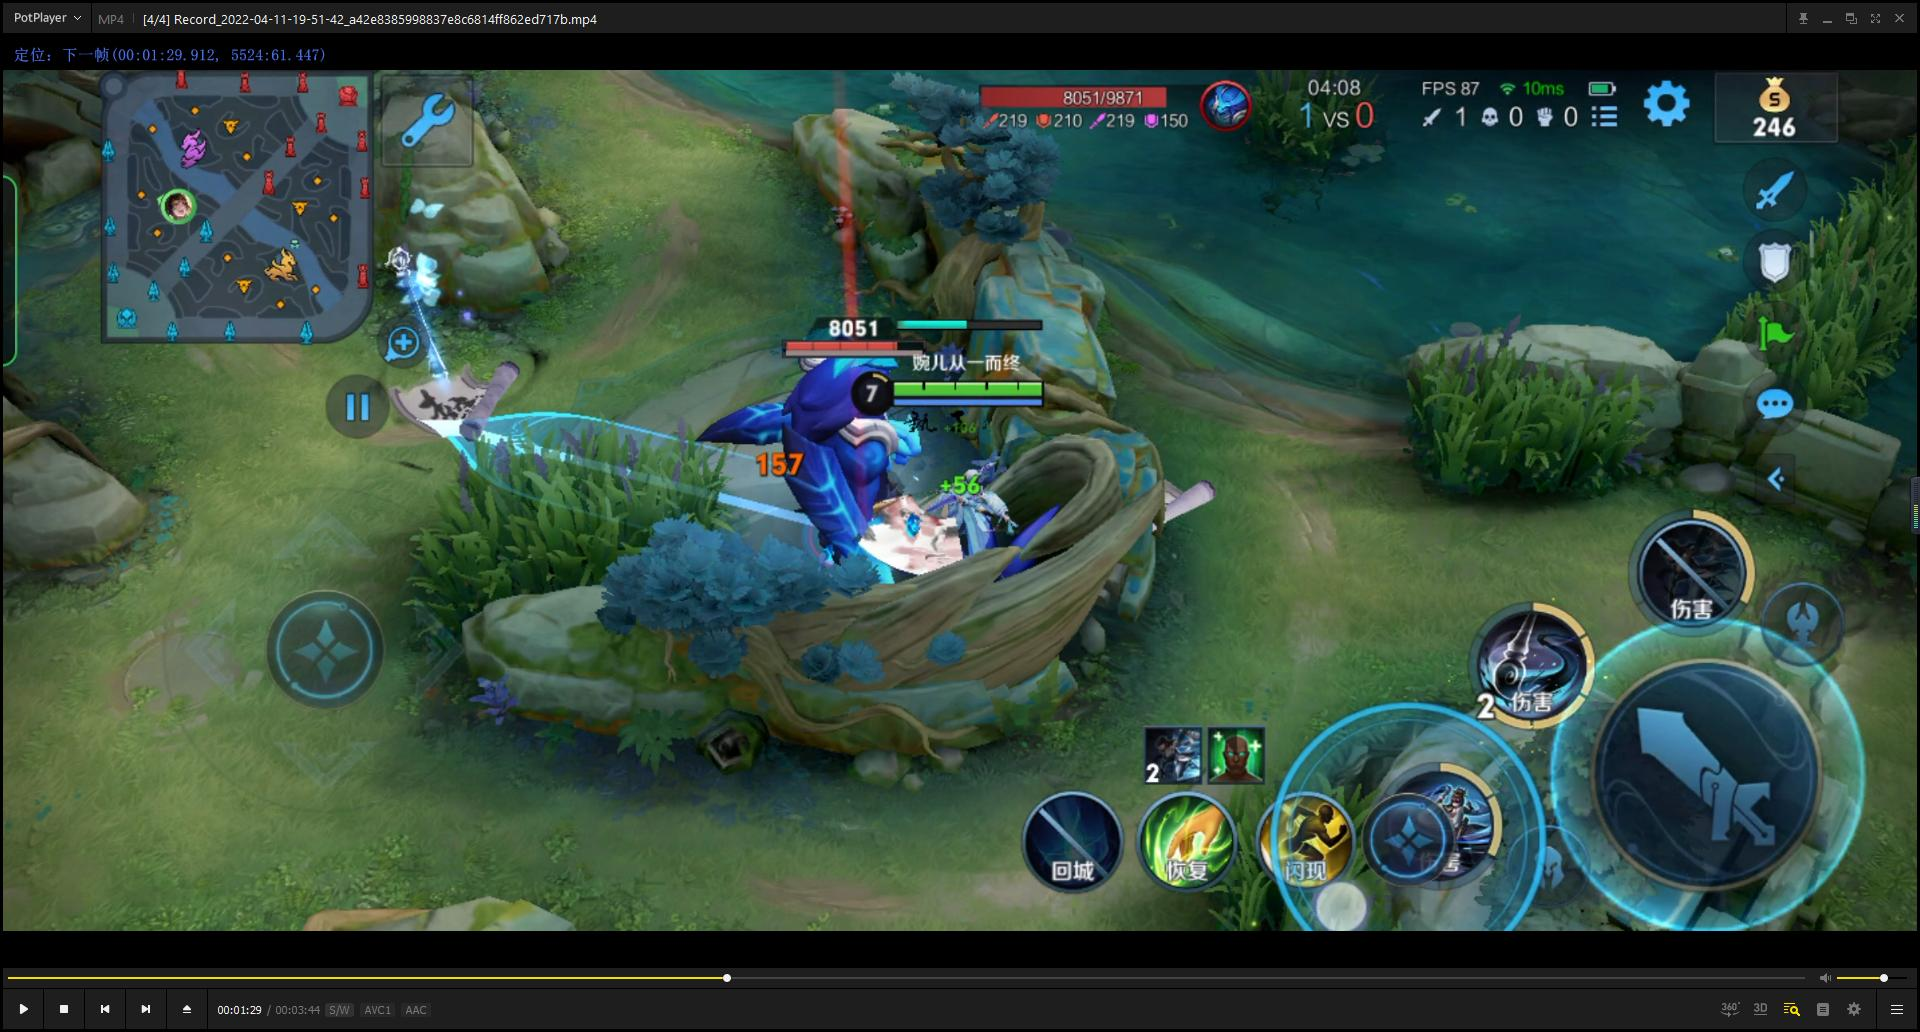Buff: (681, 304, 924, 577)
Hero: (870, 459, 1033, 568)
